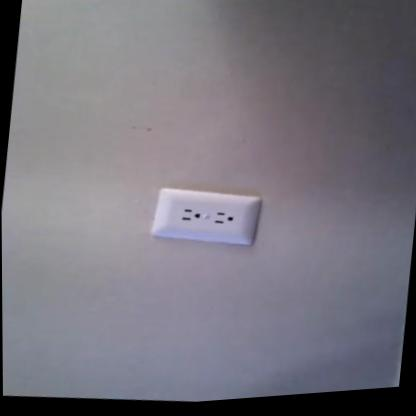OUTLET: (155, 180, 254, 252)
